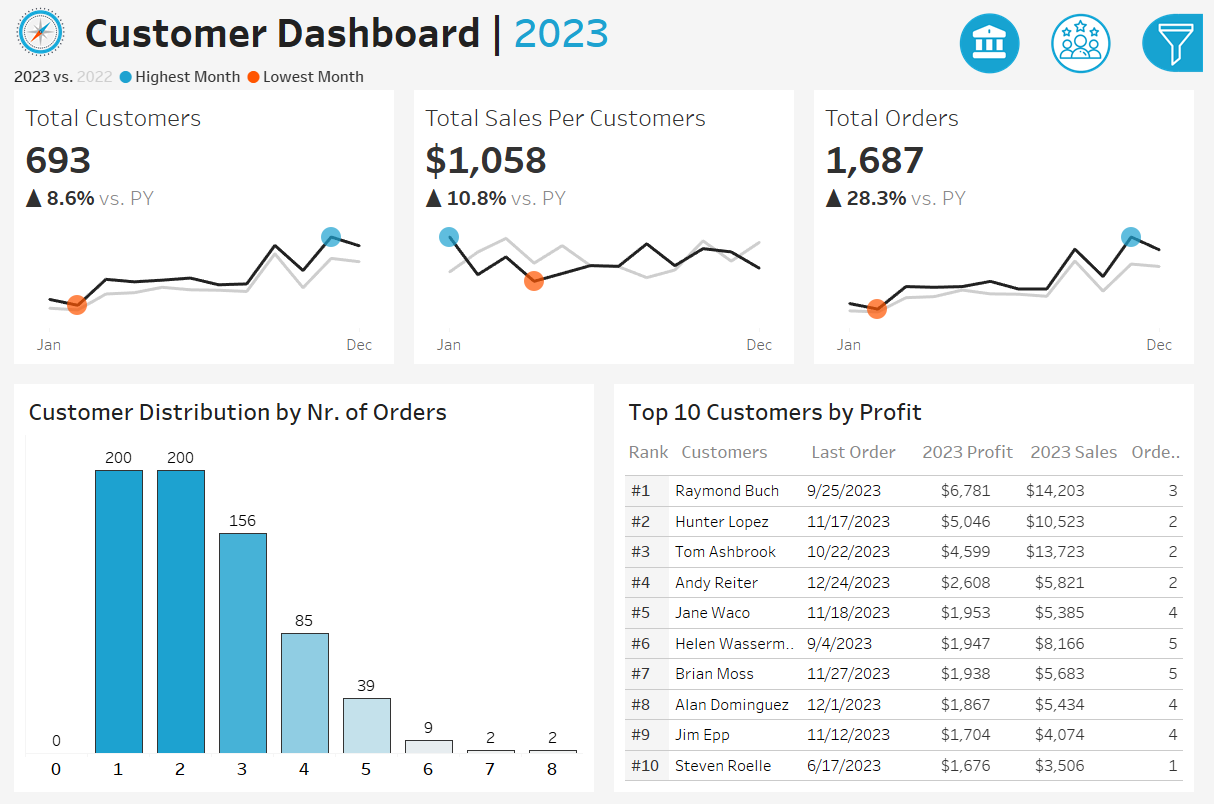

This screenshot's page, from the dashboard's own definition file:
{"tool":"tableau","page":{"name":"Customer Dashboard","canvas":[1200,800],"ordinal":0},"visuals":[{"type":"image","param":"Image/Icon - Logo.png","box":[0,0,73,59]},{"type":"text","box":[73,0,820,59]},{"type":"dashboard-object","box":[940,6,91,70]},{"type":"dashboard-object","box":[1031,6,91,70]},{"type":"blank","box":[952,10,237,86]},{"type":"worksheet","title":"Legend KPI","mark":"Automatic","box":[0,59,1200,29]},{"type":"worksheet","title":"KPI Customers","mark":"Automatic","rows":["Min/Max Quantity (copy)_3221481164588691468"],"cols":["Order Date"],"box":[0,88,400,284]},{"type":"worksheet","title":"KPI Sales Per Customers","mark":"Automatic","rows":["Min/Max Quantity (copy)_3221481164537155591"],"cols":["Order Date"],"box":[400,88,400,284]},{"type":"worksheet","title":"KPI Orders","mark":"Automatic","rows":["Min/Max Sales (copy)_3221481164601258003"],"cols":["Order Date"],"box":[800,88,400,284]},{"type":"text","box":[952,96,237,40]},{"type":"parameter","param":"[Parameters].[Parameter 1]","box":[952,136,237,56]},{"type":"text","box":[952,192,237,33]},{"type":"filter","title":"KPI Customers","param":"[federated.1kpxa041aiai2y1cl4pui1t4eju9].[none:Category:nk]","box":[952,225,237,61]},{"type":"filter","title":"KPI Customers","param":"[federated.1kpxa041aiai2y1cl4pui1t4eju9].[none:Sub-Category:nk]","box":[952,286,237,61]},{"type":"blank","box":[952,347,237,60]},{"type":"text","box":[17,389,566,40]},{"type":"text","box":[617,389,566,40]},{"type":"text","box":[952,407,237,33]},{"type":"worksheet","title":"Customer Distribution","mark":"Bar","rows":["CY Sales (copy)_3221481164532666369"],"cols":["Calculation_998110323739992064"],"box":[17,429,566,354]},{"type":"text","box":[617,429,53,40]},{"type":"text","box":[670,429,130,40]},{"type":"text","box":[800,429,111,40]},{"type":"text","box":[911,429,108,40]},{"type":"text","box":[1019,429,101,40]},{"type":"text","box":[1120,429,63,40]},{"type":"filter","title":"KPI Customers","param":"[federated.1kpxa041aiai2y1cl4pui1t4eju9].[none:Region:nk]","box":[952,440,237,61]},{"type":"worksheet","title":"Top Customers","mark":"Automatic","rows":["Calculation_782500491678904334","Customer Name","Order Date"],"box":[617,469,566,314]},{"type":"filter","title":"KPI Customers","param":"[federated.1kpxa041aiai2y1cl4pui1t4eju9].[none:State:nk]","box":[952,501,237,61]},{"type":"filter","title":"KPI Customers","param":"[federated.1kpxa041aiai2y1cl4pui1t4eju9].[none:City:nk]","box":[952,562,237,61]}]}

Visuals, with their boxes in screenshot pixels (x1, y1, x2, y2), scaled from the page's 1200x800 canvas onto the 1214x804 screenshot:
image: 0/0/74/59
text: 74/0/903/59
dashboard-object: 951/6/1043/76
dashboard-object: 1043/6/1135/76
blank: 963/10/1203/96
"Legend KPI" worksheet: 0/59/1213/88
"KPI Customers" worksheet: 0/88/405/374
"KPI Sales Per Customers" worksheet: 405/88/809/374
"KPI Orders" worksheet: 809/88/1213/374
text: 963/96/1203/137
parameter: 963/137/1203/193
text: 963/193/1203/226
"KPI Customers" filter: 963/226/1203/287
"KPI Customers" filter: 963/287/1203/349
blank: 963/349/1203/409
text: 17/391/590/431
text: 624/391/1197/431
text: 963/409/1203/442
"Customer Distribution" worksheet (Bar marks): 17/431/590/787
text: 624/431/678/471
text: 678/431/809/471
text: 809/431/922/471
text: 922/431/1031/471
text: 1031/431/1133/471
text: 1133/431/1197/471
"KPI Customers" filter: 963/442/1203/504
"Top Customers" worksheet: 624/471/1197/787
"KPI Customers" filter: 963/504/1203/565
"KPI Customers" filter: 963/565/1203/626
